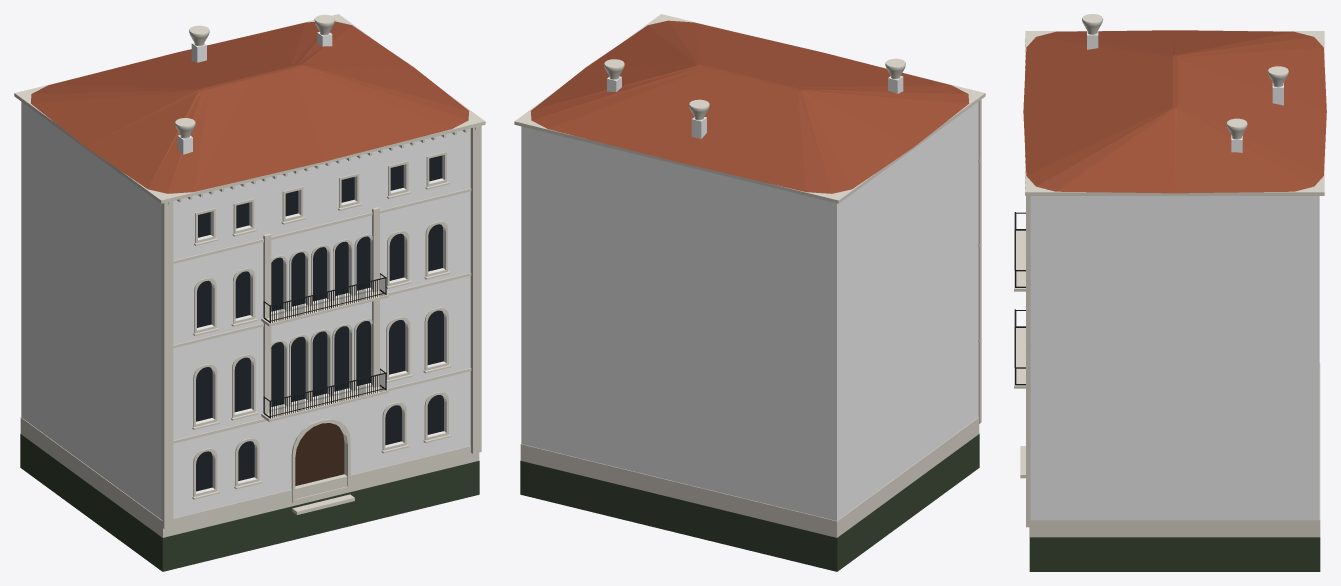
File: palazzo-grand.glb
3 renders of one model, left to right at view 1: azimuth 30°, elevation 25°; view 2: azimuth 150°, elevation 25°; view 3: azimuth 270°, elevation 25°, orthographic.
Parts seen in each view (by area): view 1: wall96, roof99, algae98, stone97, stone3, stone4, stone100, wood1, stone5, stone6, stone42, stone71 (+26 smaller); view 2: wall96, roof99, algae98, stone97, stone100, stone3; view 3: wall96, roof99, algae98, stone97, stone100, stone4, stone71, stone42.
Boxes of the visible parts, x1,y1,x2,y2 form: wall96: (21,101,470,519); roof99: (30,21,469,193); algae98: (20,434,479,571); stone97: (20,417,479,537); stone3: (162,201,173,529); stone4: (470,125,481,453); stone100: (14,14,485,203); wood1: (295,423,344,485); stone5: (263,233,271,413); stone6: (372,207,379,387); stone42: (261,385,388,421); stone71: (261,291,388,326); wall96: (521,101,978,520); roof99: (530,20,969,193); algae98: (520,434,979,571); stone97: (520,417,979,537); stone100: (514,14,985,203); stone3: (978,99,981,423); wall96: (1030,196,1319,520); roof99: (1023,30,1326,193); algae98: (1029,527,1320,571); stone97: (1030,363,1320,537); stone100: (1025,31,1324,195); stone4: (1026,196,1030,527); stone71: (1014,229,1025,291); stone42: (1014,327,1025,388).
Size of the model in its own units: 18.7 by 22.58 by 15.15.
